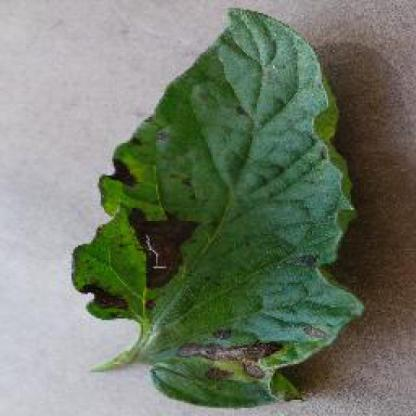Tomato_Blight: (66, 7, 364, 402)
